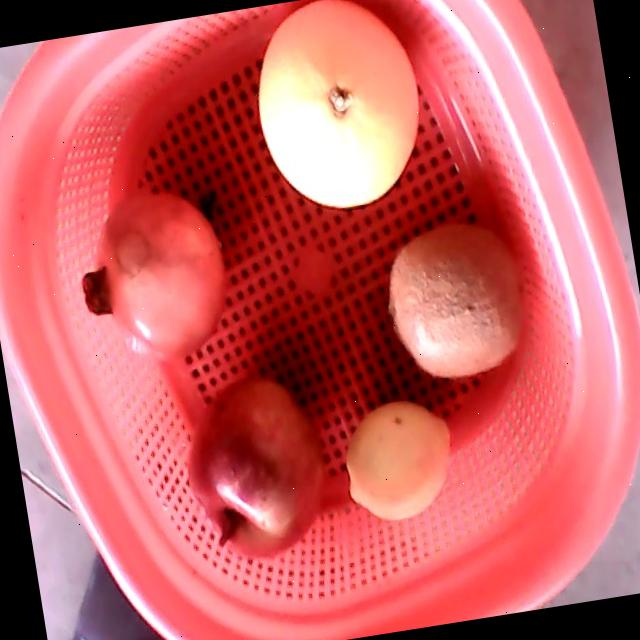apple: (186, 375, 324, 560)
kiwi: (387, 221, 522, 377)
lemon: (345, 399, 449, 519)
orange: (257, 0, 419, 207)
pomegranate: (82, 194, 228, 361)
